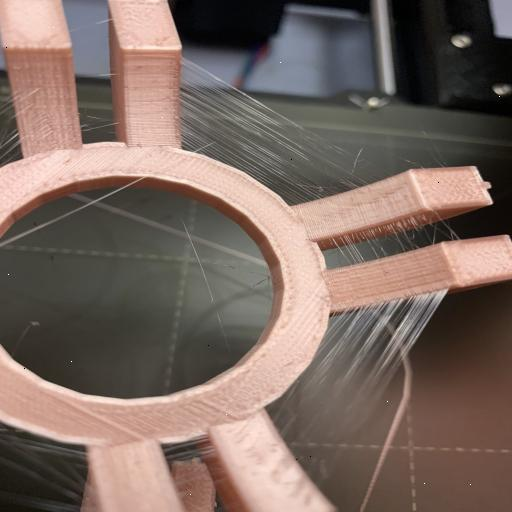stringing: (150, 58, 402, 206), (260, 286, 448, 477), (323, 210, 454, 270)
